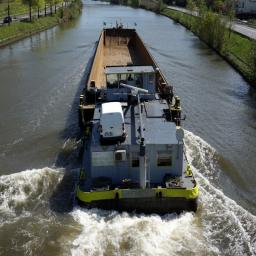tugboat: (76, 61, 202, 220)
